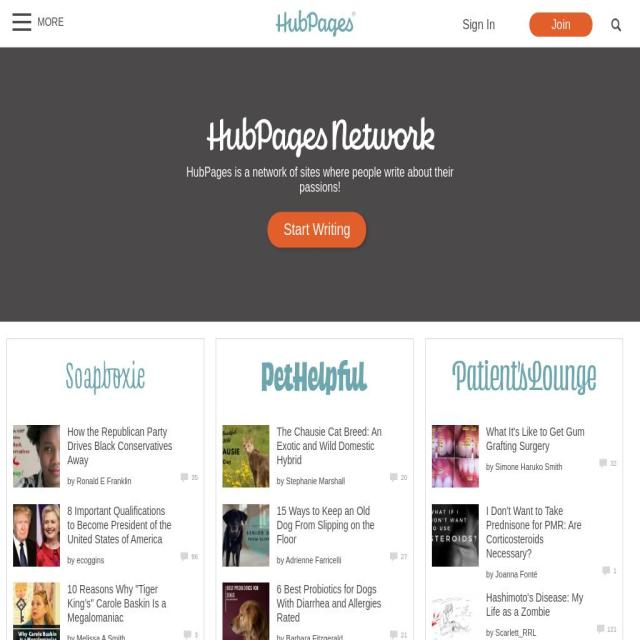button: (268, 212, 366, 248), (275, 10, 357, 39), (529, 13, 593, 36)
heading: (486, 504, 581, 560), (276, 583, 382, 625), (67, 504, 171, 546), (276, 426, 382, 466), (67, 426, 172, 466), (67, 583, 166, 625), (276, 504, 374, 546), (486, 591, 583, 618), (486, 426, 584, 452)
image: (202, 112, 438, 164), (13, 503, 198, 567), (222, 503, 407, 567), (432, 503, 616, 567), (13, 425, 198, 487), (222, 425, 407, 487), (432, 425, 616, 487), (432, 590, 616, 640), (452, 360, 596, 395), (261, 360, 369, 395), (222, 582, 270, 640), (66, 360, 145, 395), (13, 582, 60, 640), (275, 10, 357, 37), (6, 590, 36, 630), (611, 18, 621, 32), (180, 550, 188, 562), (390, 550, 398, 562), (180, 472, 188, 483), (390, 472, 398, 483), (600, 458, 608, 469), (602, 565, 610, 576), (184, 630, 192, 640), (390, 630, 398, 640), (596, 624, 604, 634)
link: (462, 16, 495, 32)
text: (180, 165, 460, 196), (495, 462, 563, 472), (285, 554, 341, 565), (286, 476, 345, 486), (76, 476, 132, 486), (38, 8, 56, 36), (495, 568, 537, 580), (495, 626, 536, 638), (286, 633, 342, 640), (76, 633, 125, 640), (76, 554, 105, 565), (486, 568, 496, 580), (486, 626, 496, 638), (67, 554, 77, 565), (276, 554, 286, 565), (67, 476, 77, 486), (276, 476, 286, 486), (486, 462, 496, 472), (607, 624, 616, 634), (400, 473, 408, 482), (400, 631, 408, 640), (67, 633, 77, 640), (276, 633, 286, 640), (400, 552, 408, 560), (191, 473, 198, 482), (610, 459, 617, 468), (191, 552, 198, 560), (194, 631, 198, 640), (613, 566, 617, 575)
